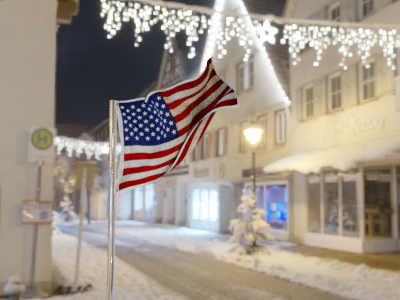America flag: (115, 57, 238, 192)
